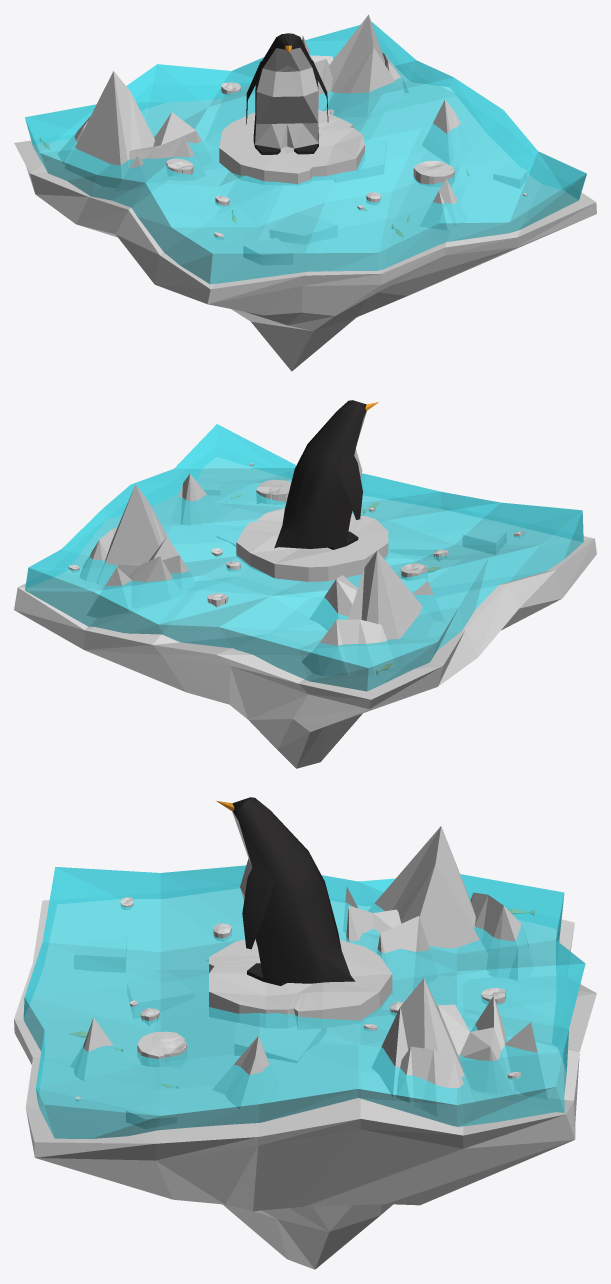
Rendered from penguin_island.glb.
The picture shows the model from 3 angles, top to bottom: view 1: azimuth 30°, elevation 25°; view 2: azimuth 150°, elevation 25°; view 3: azimuth 270°, elevation 25°; orthographic projection. The views are drawn at different scales.
Visible parts, largest first — view 1: Water, Snow, Cube_2_2, Iceberg, Iceberg_Back_2, Iceberg_Back, Iceberg_Big, Iceberg_Back_1, Cube_2, Iceberg_Back_3, Iceberg_Big_1, Cube (+3 smaller); view 2: Snow, Water, Cube_2_2, Iceberg, Iceberg_Big, Iceberg_Big_1, Iceberg_Back_2, Iceberg_Back, Iceberg_Back_1, Cube_2, Cube, Iceberg_8; view 3: Snow, Water, Cube_2_2, Iceberg, Iceberg_Big_1, Iceberg_Back_2, Iceberg_Big, Iceberg_Back, Iceberg_Back_1, Cube_1, Iceberg_Back_3, Cube_2 (+3 smaller).
Boxes of the visible parts, x1,y1,x2,y2 form: Water: (25,21,586,284); Snow: (14,63,596,371); Cube_2_2: (246,33,328,154); Iceberg: (219,109,364,185); Iceberg_Back_2: (65,71,154,187); Iceberg_Back: (328,14,405,117); Iceberg_Big: (58,112,213,191); Iceberg_Back_1: (422,100,472,164); Cube_2: (270,212,337,244); Iceberg_Back_3: (420,179,467,230); Iceberg_Big_1: (302,36,408,111); Cube: (243,238,292,264); Snow: (14,457,596,768); Water: (25,424,583,691); Cube_2_2: (274,400,378,549); Iceberg: (236,507,388,581); Iceberg_Big: (302,575,443,676); Iceberg_Big_1: (80,527,197,617); Iceberg_Back_2: (348,551,433,663); Iceberg_Back: (97,484,168,585); Iceberg_Back_1: (171,474,221,526); Cube_2: (389,527,438,556); Cube: (463,521,506,554); Iceberg_8: (256,479,291,504); Snow: (14,888,596,1269); Water: (23,865,585,1138); Cube_2_2: (216,797,355,985); Iceberg: (209,939,392,1029); Iceberg_Big_1: (396,996,547,1118); Iceberg_Back_2: (368,826,489,983); Iceberg_Big: (343,886,533,996); Iceberg_Back: (372,978,475,1104); Iceberg_Back_1: (212,1036,279,1108); Cube_1: (234,1022,326,1062); Iceberg_Back_3: (70,1017,134,1080); Cube_2: (127,970,194,1018).
Size of the model in its own units: 435 by 369 by 433.
